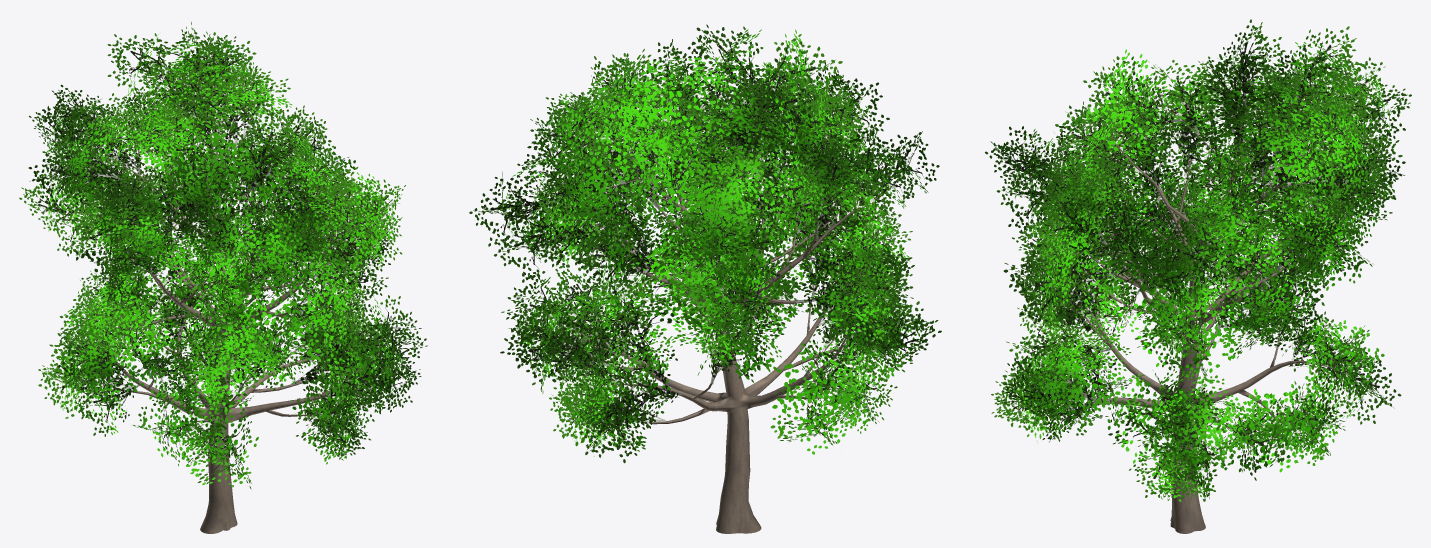
The model's file is tree_Broadleaf_XL1_LOD0.fbx.
3 renders of one model, left to right at view 1: azimuth 30°, elevation 25°; view 2: azimuth 150°, elevation 25°; view 3: azimuth 270°, elevation 25°, orthographic. The views are drawn at different scales.
Parts seen in each view (by area): view 1: Broadleaf_XL1_LOD0; view 2: Broadleaf_XL1_LOD0; view 3: Broadleaf_XL1_LOD0.
Boxes of the visible parts, bbox=[...] form: Broadleaf_XL1_LOD0: bbox=[19, 22, 427, 533]; Broadleaf_XL1_LOD0: bbox=[469, 24, 941, 533]; Broadleaf_XL1_LOD0: bbox=[985, 19, 1411, 533].
Bounding box in the file's own units: 1605 × 1941 × 1547.
